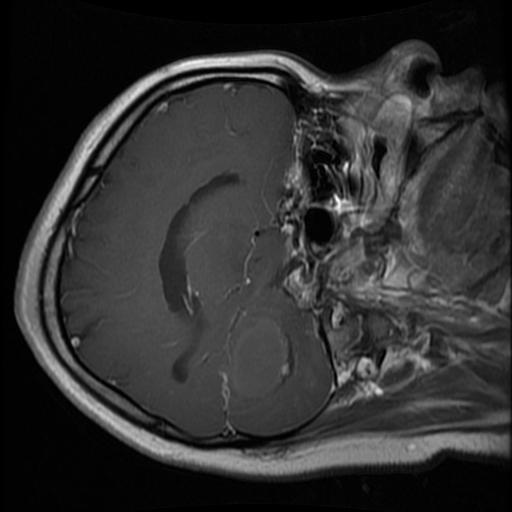glioma: (226, 315, 295, 403)
